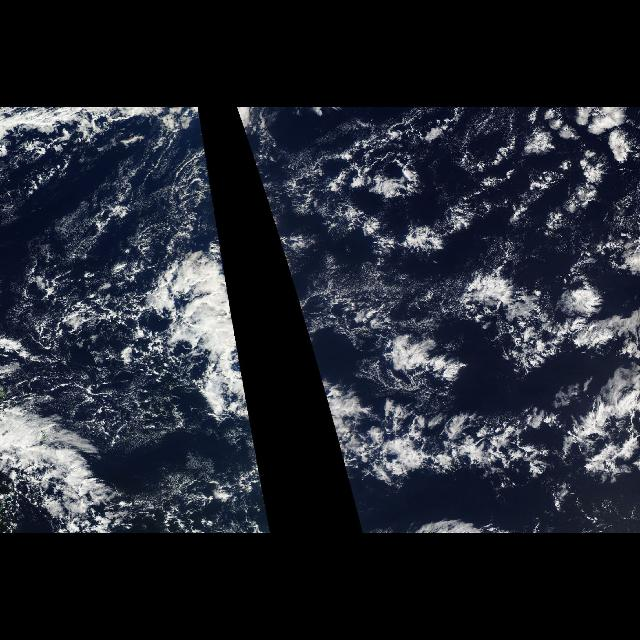Flower: (453, 110, 639, 370)
Gravel: (29, 156, 204, 450), (286, 127, 534, 265)
